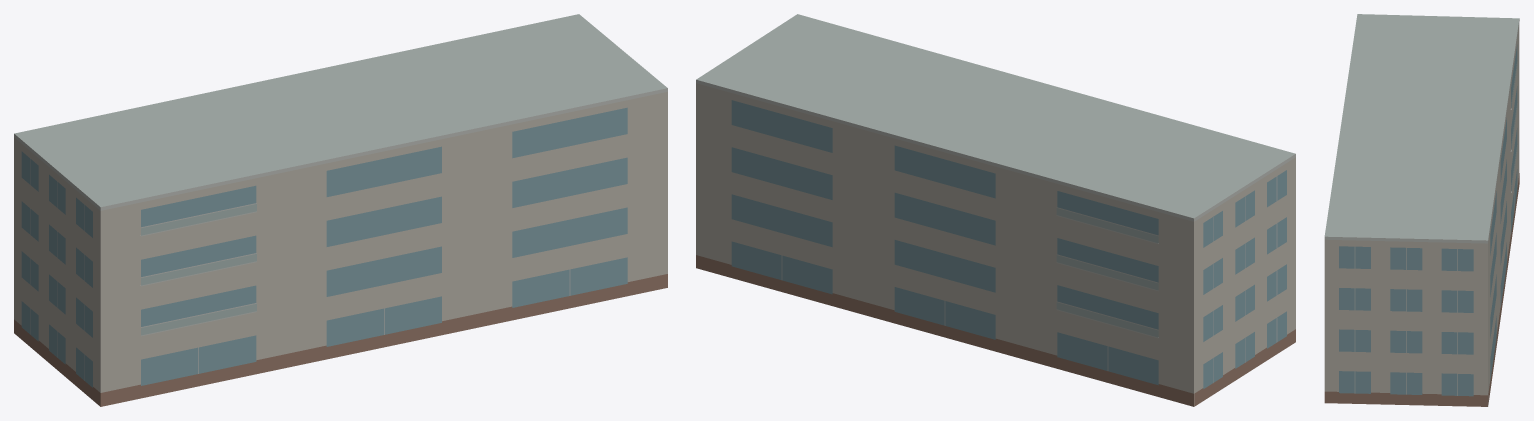
File: survey-upis-32872788.glb
3 views of the same model, side by side, from view 1: azimuth 30°, elevation 25°; view 2: azimuth 150°, elevation 25°; view 3: azimuth 270°, elevation 25° (orthographic). The views are drawn at different scales.
Visible parts, largest first — view 1: survey-upis-32872788.tmp; view 2: survey-upis-32872788.tmp; view 3: survey-upis-32872788.tmp.
Boxes of the visible parts, left/top/right/bottom form: survey-upis-32872788.tmp: left=14, top=14, right=667, bottom=406; survey-upis-32872788.tmp: left=696, top=14, right=1295, bottom=406; survey-upis-32872788.tmp: left=1324, top=14, right=1519, bottom=406.
Bounding box in the file's own units: 39.13 × 13.4 × 14.23.
